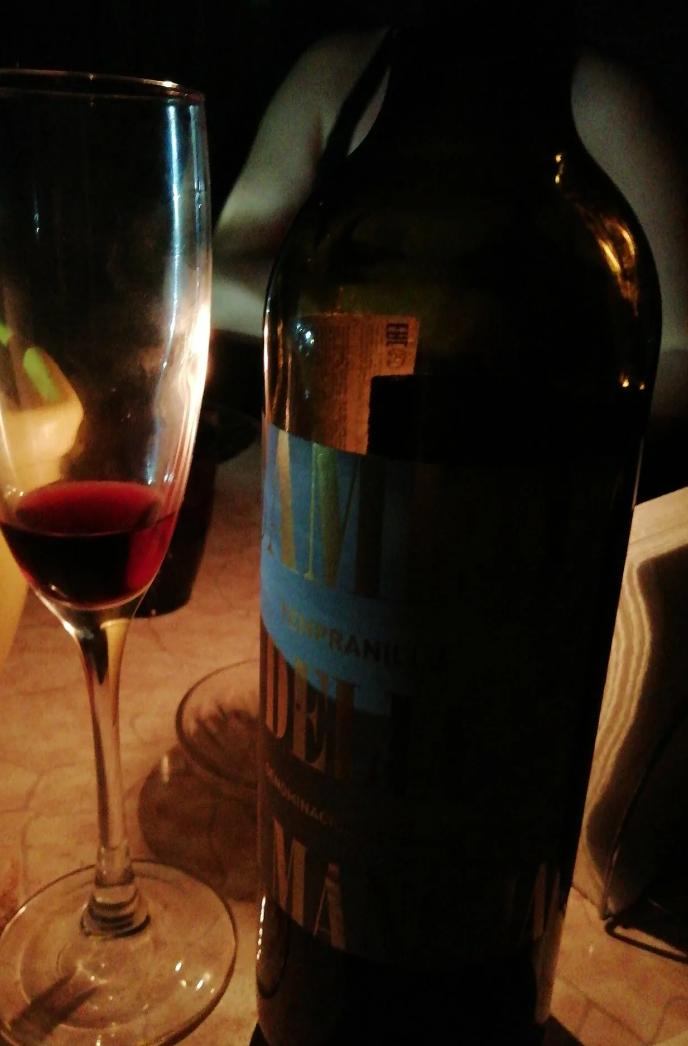wine bottle: (256, 0, 664, 1044)
wine label: (259, 417, 639, 972)
